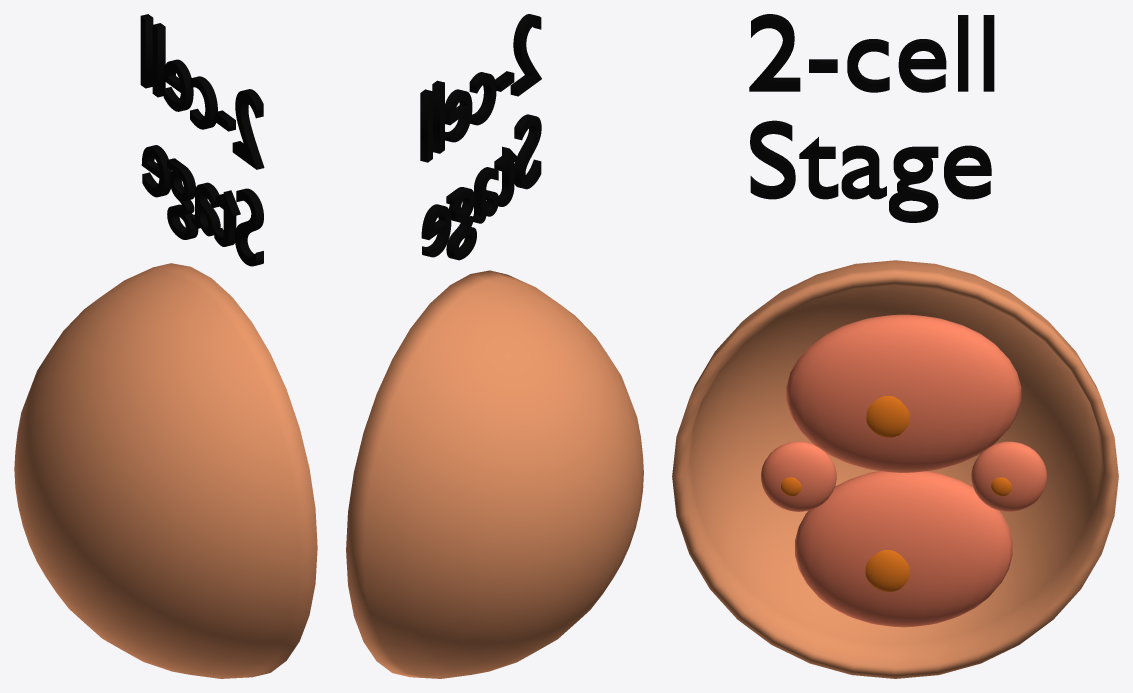
Rendered from (2)2-cell stage.gltf.
The picture shows the model from 3 angles, left to right: view 1: azimuth 30°, elevation 25°; view 2: azimuth 150°, elevation 25°; view 3: azimuth 270°, elevation 25°; orthographic projection. The views are drawn at different scales.
Parts seen in each view (by area): view 1: Sphere.003, Text.001; view 2: Sphere.003, Text.001; view 3: Sphere.003, Sphere.005, Sphere.007, Text.001, Sphere.011, Sphere.009, Sphere.006, Sphere.004.
Part boxes in pixels (<box>): Sphere.003: <box>14,263,317,678</box>; Text.001: <box>140,14,264,266</box>; Sphere.003: <box>346,270,643,678</box>; Text.001: <box>420,14,541,260</box>; Sphere.003: <box>672,260,1118,678</box>; Sphere.005: <box>786,314,1021,472</box>; Sphere.007: <box>795,471,1012,627</box>; Text.001: <box>749,14,994,222</box>; Sphere.011: <box>971,441,1046,511</box>; Sphere.009: <box>761,441,836,511</box>; Sphere.006: <box>865,550,909,591</box>; Sphere.004: <box>866,396,909,437</box>.
Size of the model in its own units: 0.8296 by 2.8 by 1.74.
